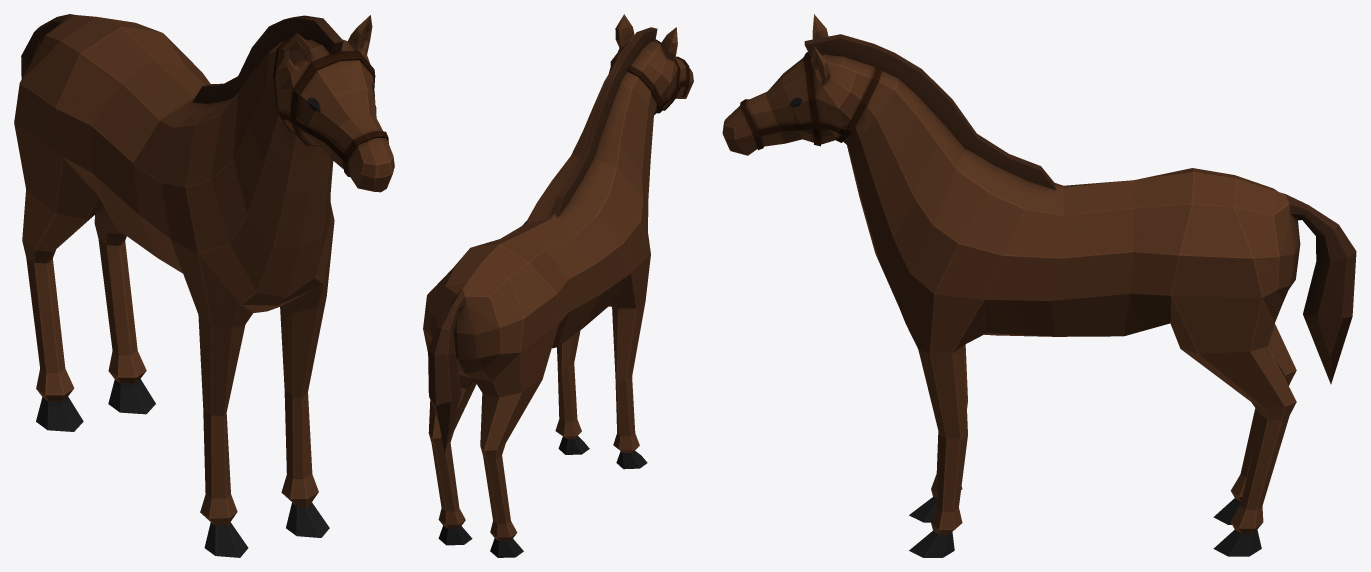
The model's file is horse.glb.
3 views of the same model, side by side, from view 1: azimuth 30°, elevation 25°; view 2: azimuth 150°, elevation 25°; view 3: azimuth 270°, elevation 25° (orthographic). The views are drawn at different scales.
Visible parts, largest first — view 1: Horse_Mesh; view 2: Horse_Mesh; view 3: Horse_Mesh.
Boxes of the visible parts, x1,y1,x2,y2 form: Horse_Mesh: [14, 14, 394, 557]; Horse_Mesh: [423, 14, 693, 557]; Horse_Mesh: [722, 14, 1356, 557].
Size of the model in its own units: 3.49 by 12.82 by 14.65.
1 material, 1 textured.
